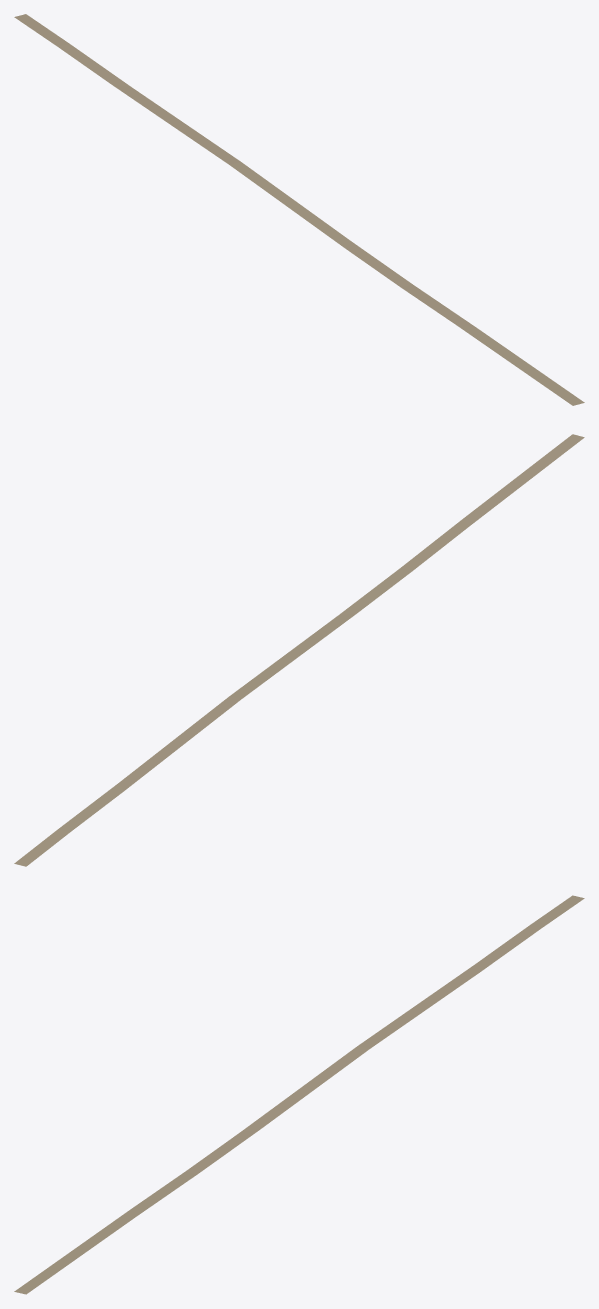
File: farm_24_32_track.glb
3 views of the same model, one above another, from view 1: azimuth 30°, elevation 25°; view 2: azimuth 150°, elevation 25°; view 3: azimuth 330°, elevation 25° (orthographic).
Parts seen in each view (by area): view 1: geometry_0; view 2: geometry_0; view 3: geometry_0.
Boxes of the visible parts, bbox=[...] form: geometry_0: bbox=[14, 14, 584, 405]; geometry_0: bbox=[14, 434, 584, 866]; geometry_0: bbox=[14, 895, 584, 1294].
Bounding box in the file's own units: 4.37 × 4.28 × 260.
